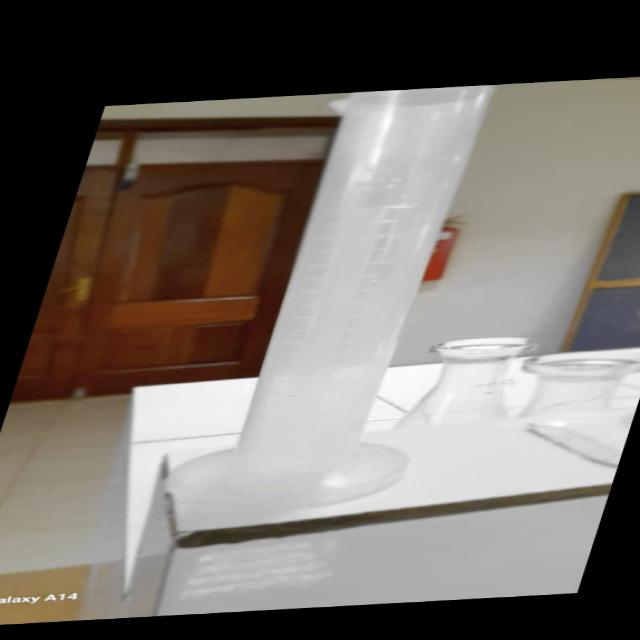Measuring Cylinder: (188, 90, 519, 504)
